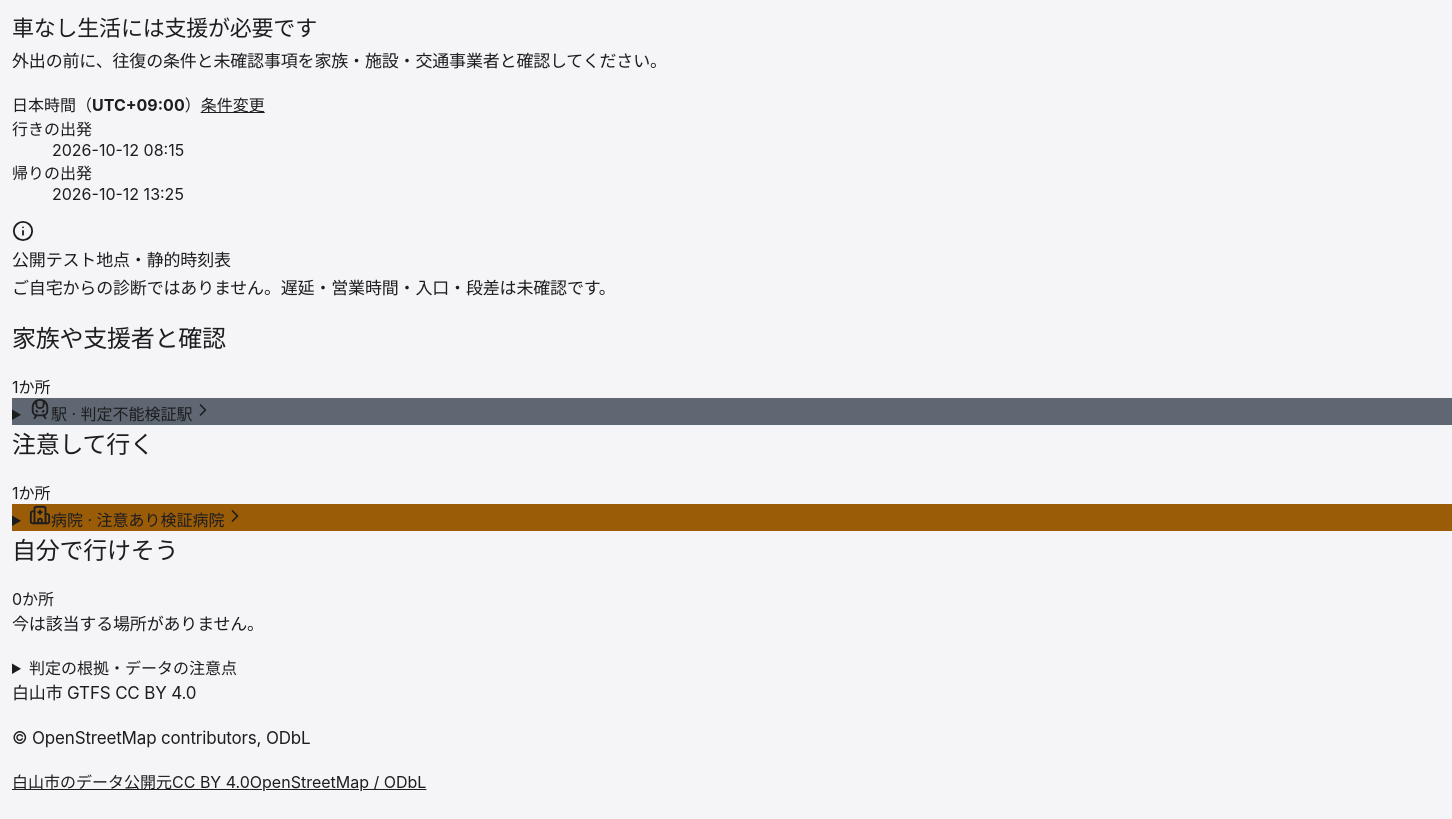
Test: renders dynamic dates, counts, scores and visible limitations
Expected: the text "2026-10-12 08:15" is shown, [52,140,184,160]
Expected: the text "2026-10-12 13:25" is shown, [52,184,184,204]
Step 1. Click the heading "判定の根拠・データの注意点" → [133, 668], box [29,658,237,678]
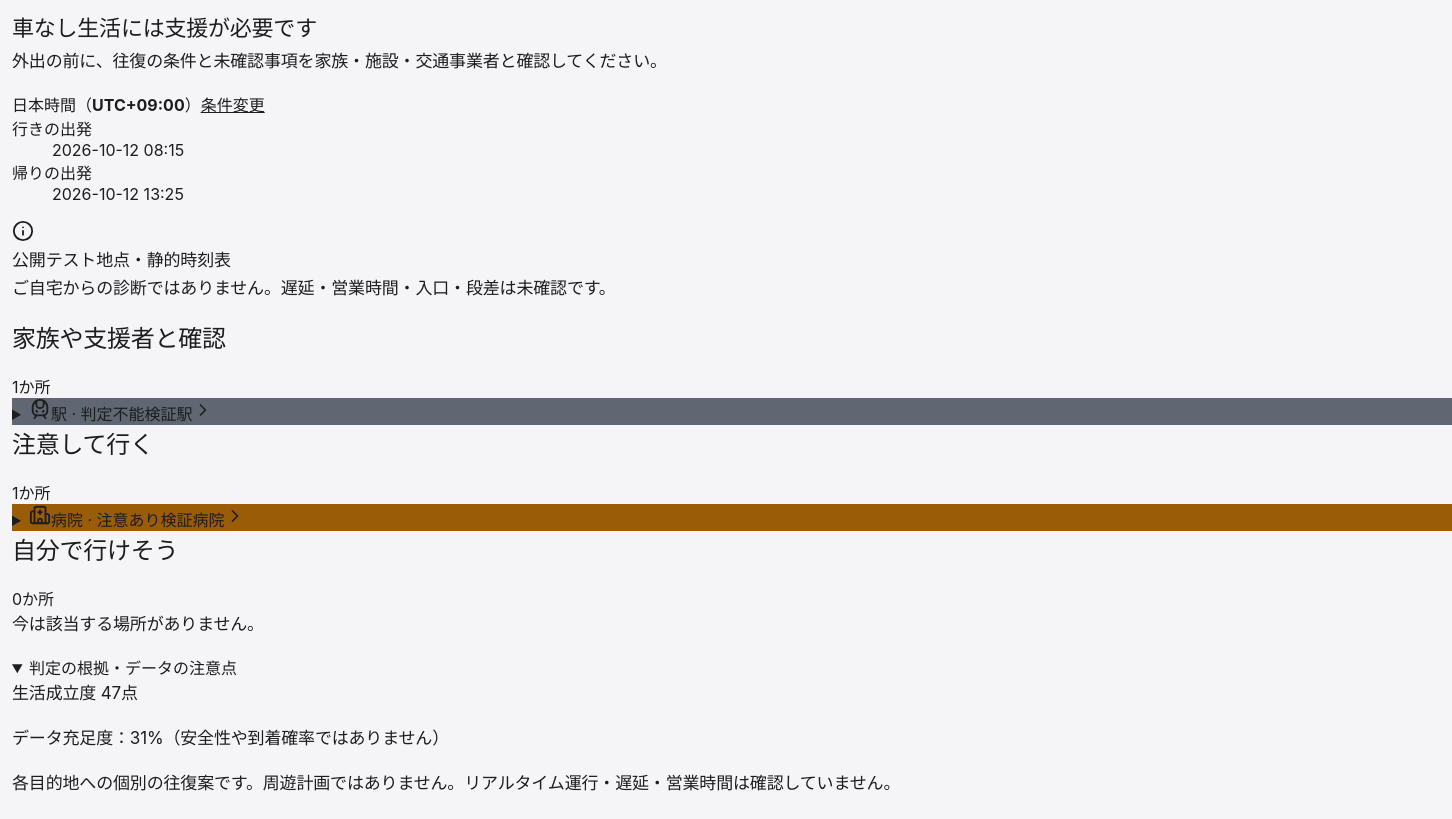
Expected: the text "生活成立度 47点" is shown, [12,683,138,703]
Expected: the text "データ充足度：31%（安全性や到着確率ではありません）" is shown, [12,728,449,748]
